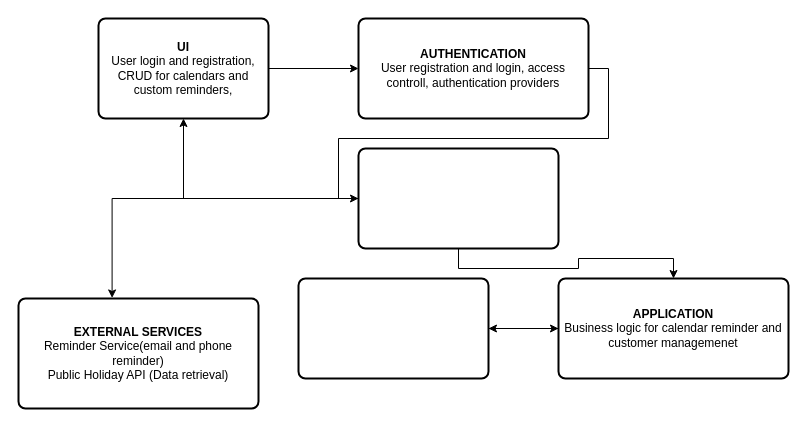
Image size: 806x426. Some labels were removed from this diagram. The centre of each missing label's shape, as x and y in pixels:
"API LAYER Calendar Reminder Customer API (REST Endpoints)" belongs at (x=458, y=198).
"DATA ACCESS LAYER Calrender, Reminder and Customer Repository" belongs at (x=393, y=328).
